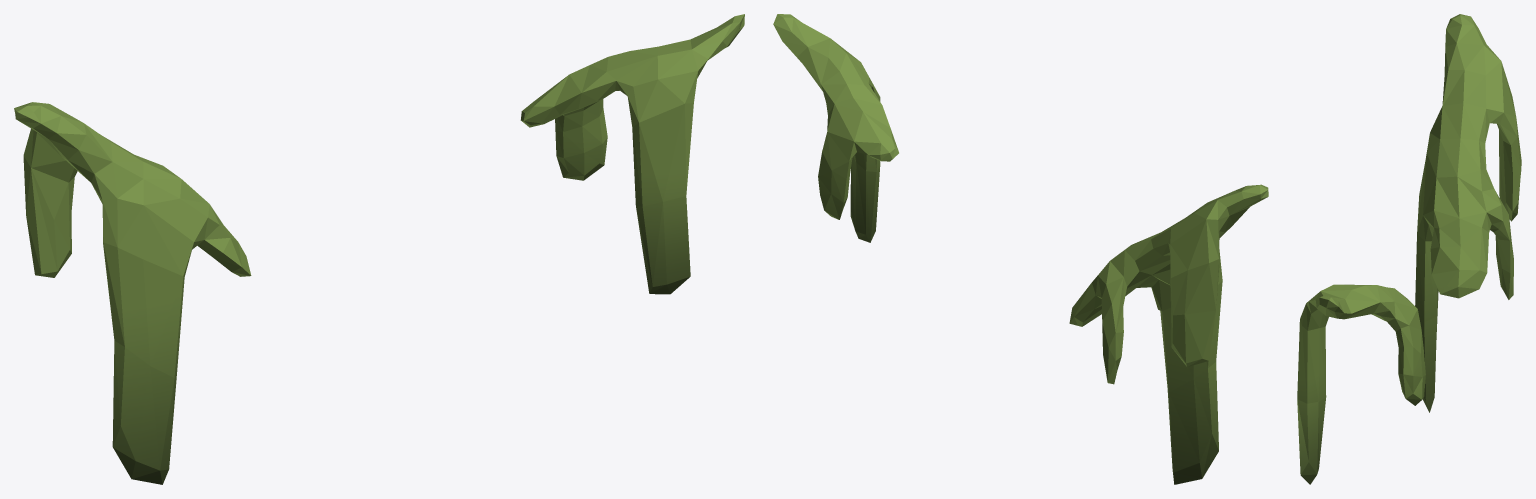
File: JungleTree_Lrg_B_Grass.fbx
3 renders of one model, left to right at view 1: azimuth 30°, elevation 25°; view 2: azimuth 150°, elevation 25°; view 3: azimuth 270°, elevation 25°, orthographic. The views are drawn at different scales.
Parts seen in each view (by area): view 1: JungleTree_Lrg_B_Grass; view 2: JungleTree_Lrg_B_Grass; view 3: JungleTree_Lrg_B_Grass.
Boxes of the visible parts, x1,y1,x2,y2 form: JungleTree_Lrg_B_Grass: (14, 14, 744, 484); JungleTree_Lrg_B_Grass: (773, 14, 1268, 484); JungleTree_Lrg_B_Grass: (1297, 14, 1521, 484).
Size of the model in its own units: 4.96 by 2.86 by 1.68.
1 material, 1 textured.
